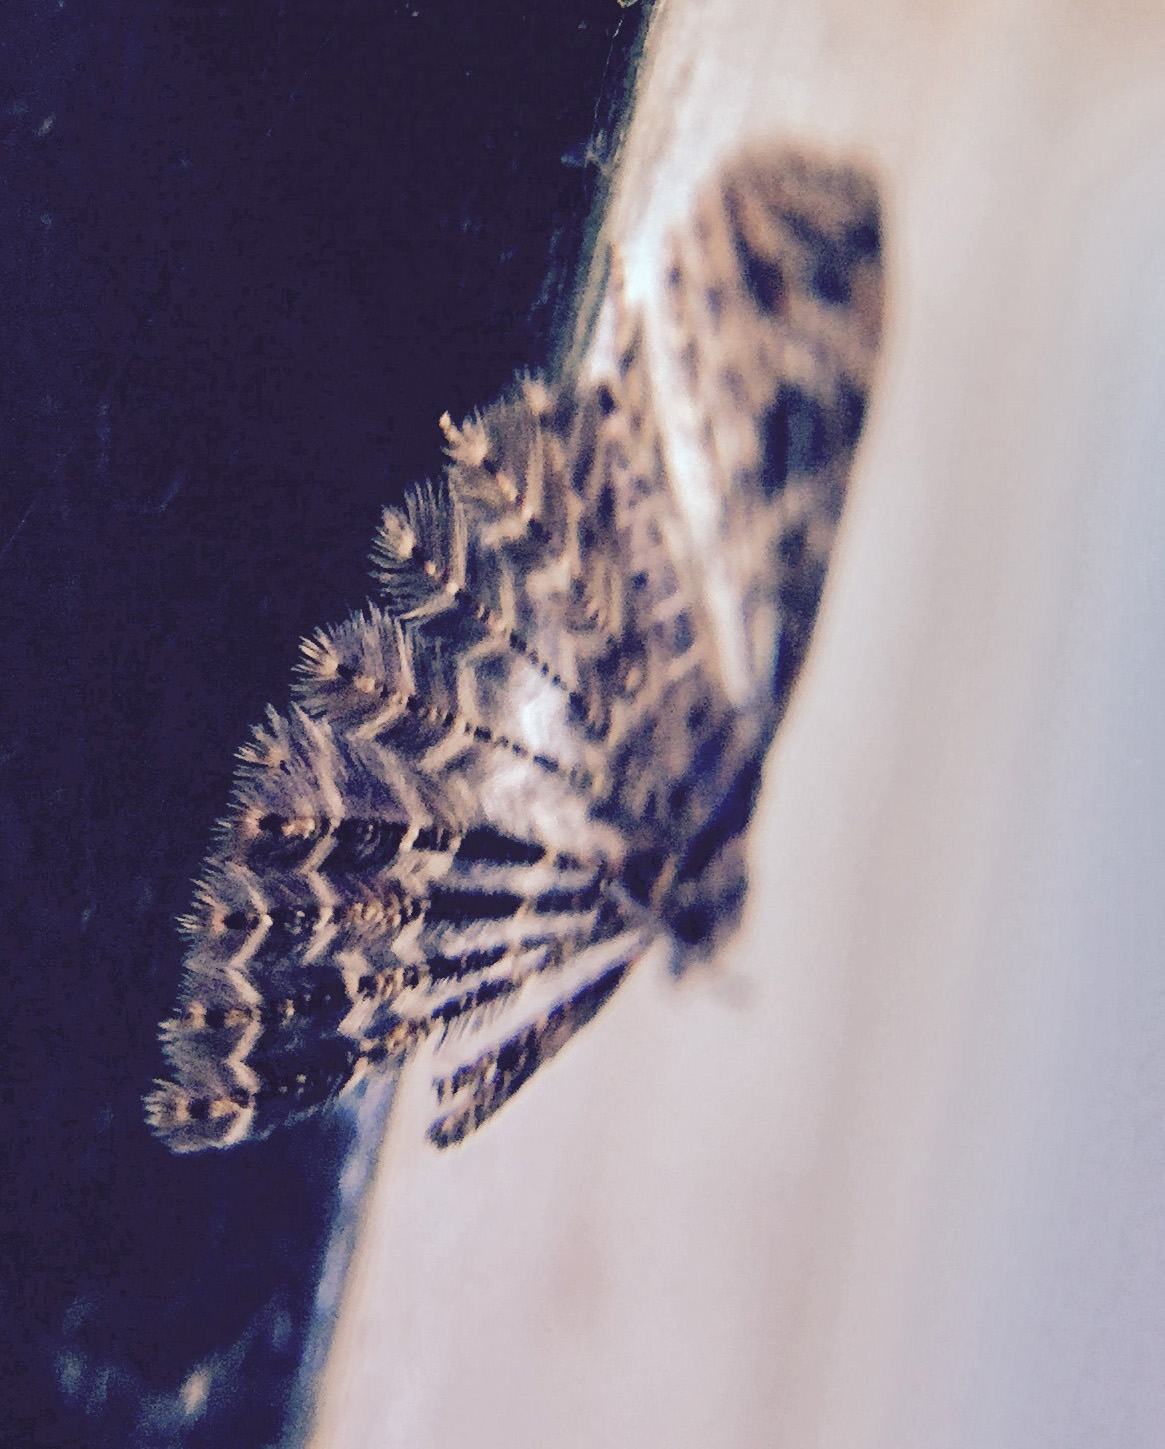Alucitidae: (127, 140, 909, 1157)
moth: (130, 141, 911, 1158)
